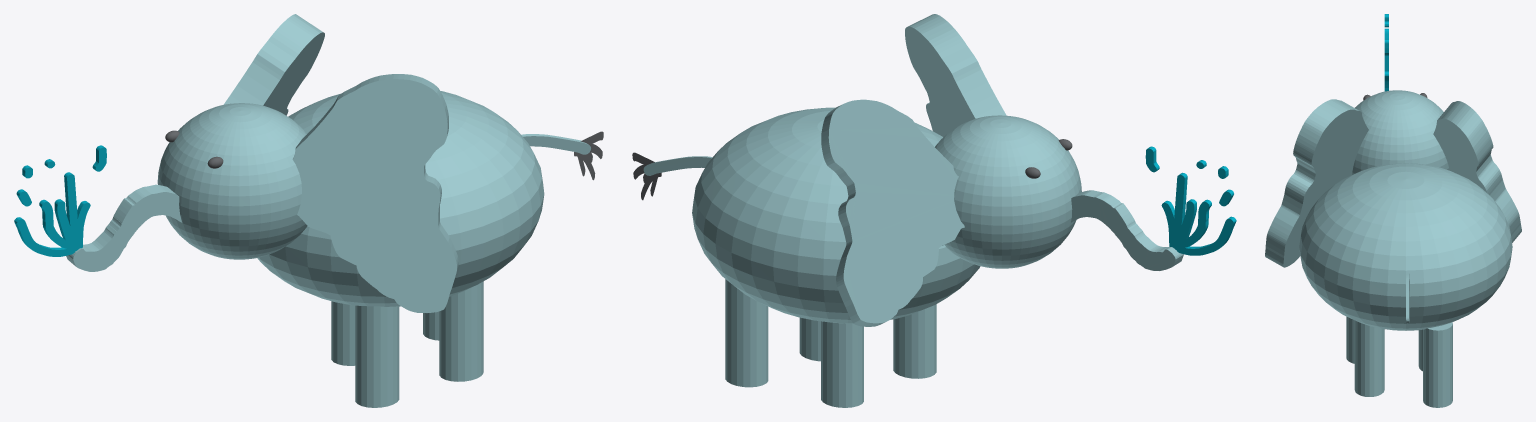
Rendered from elephant.glb.
3 renders of one model, left to right at view 1: azimuth 30°, elevation 25°; view 2: azimuth 150°, elevation 25°; view 3: azimuth 270°, elevation 25°, orthographic. The views are drawn at different scales.
Visible parts, largest first — view 1: Mesh_Mesh_head_geo.001_lambert2SG.001; view 2: Mesh_Mesh_head_geo.001_lambert2SG.001; view 3: Mesh_Mesh_head_geo.001_lambert2SG.001.
Boxes of the visible parts, x1=… form: Mesh_Mesh_head_geo.001_lambert2SG.001: x1=14, y1=14, x2=603, y2=407; Mesh_Mesh_head_geo.001_lambert2SG.001: x1=632, y1=14, x2=1236, y2=407; Mesh_Mesh_head_geo.001_lambert2SG.001: x1=1265, y1=14, x2=1521, y2=407.
Size of the model in its own units: 121 by 65.14 by 60.18.
